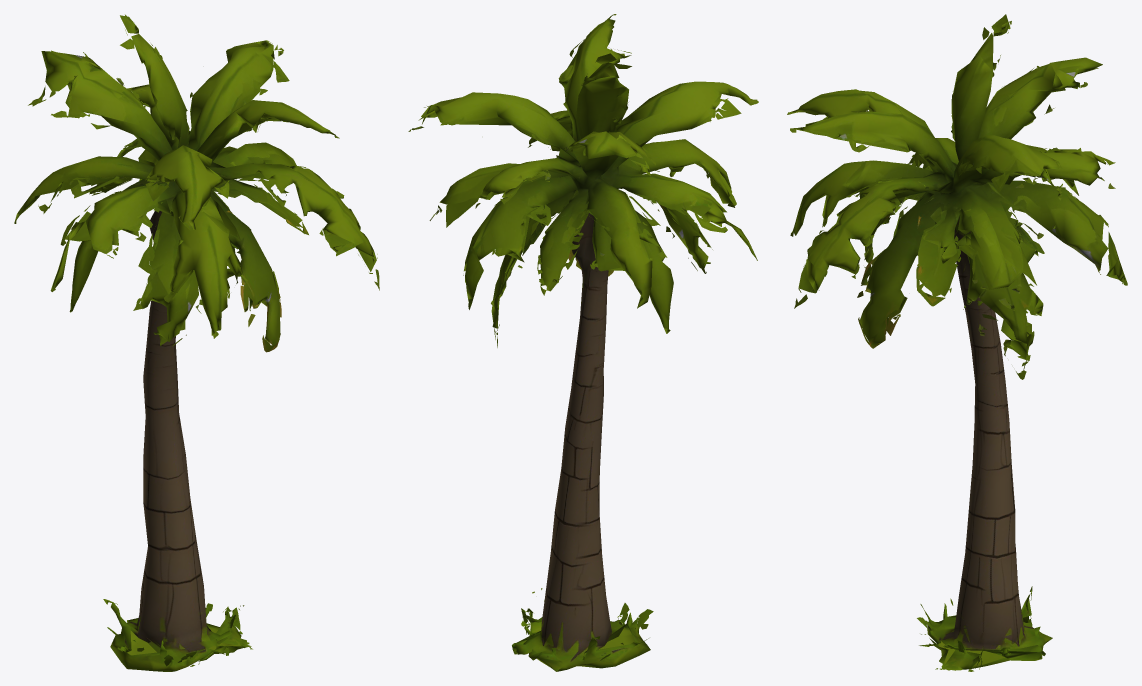
Rendered from SM_Vegetacion_Palmera_01.fbx.
The picture shows the model from 3 angles, left to right: view 1: azimuth 30°, elevation 25°; view 2: azimuth 150°, elevation 25°; view 3: azimuth 270°, elevation 25°; orthographic projection. The views are drawn at different scales.
Parts seen in each view (by area): view 1: SM_Vegetacion_Palmera_01; view 2: SM_Vegetacion_Palmera_01; view 3: SM_Vegetacion_Palmera_01.
Boxes of the visible parts, x1,y1,x2,y2 form: SM_Vegetacion_Palmera_01: (14, 14, 379, 671); SM_Vegetacion_Palmera_01: (408, 14, 758, 671); SM_Vegetacion_Palmera_01: (787, 14, 1127, 671).
Size of the model in its own units: 0.4801 by 0.9825 by 0.4969.
1 material, 1 textured.
